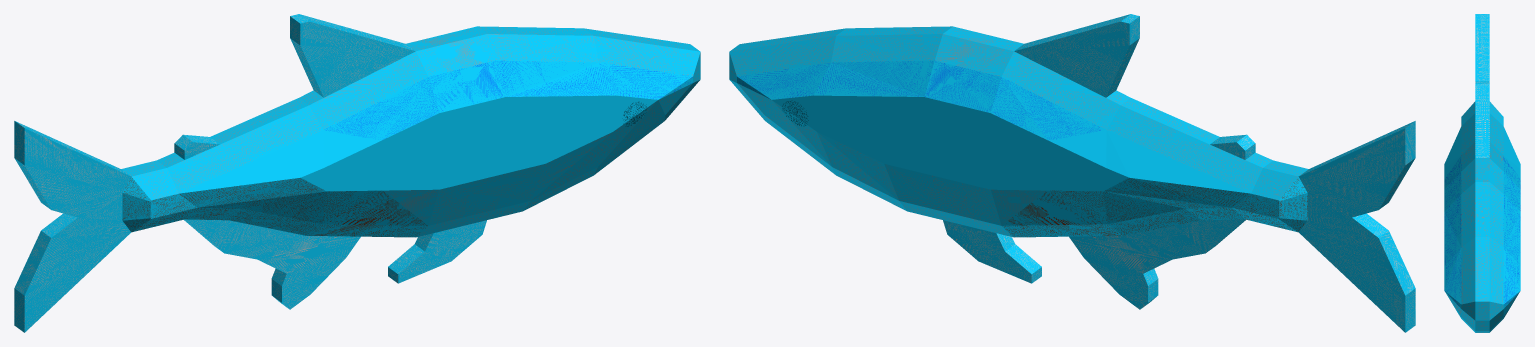
Rendered from neontetra.obj.
3 views of the same model, side by side, from view 1: azimuth 30°, elevation 25°; view 2: azimuth 150°, elevation 25°; view 3: azimuth 270°, elevation 25° (orthographic). The views are drawn at different scales.
Parts seen in each view (by area): view 1: SketchUp.006_ID44, SketchUp.007_ID52, SketchUp.004_ID30, SketchUp.005_ID36, SketchUp.008_ID58, SketchUp.003_ID24, SketchUp.001_ID12, SketchUp_ID2, SketchUp.002_ID18; view 2: SketchUp.006_ID44, SketchUp.011_ID78, SketchUp.004_ID30, SketchUp.010_ID72, SketchUp.009_ID66, SketchUp.003_ID24, SketchUp.001_ID12, SketchUp_ID2, SketchUp.002_ID18, SketchUp.018_ID124; view 3: SketchUp.006_ID44, SketchUp.009_ID66, SketchUp.008_ID58, SketchUp.001_ID12, SketchUp.004_ID30, SketchUp.011_ID78, SketchUp.007_ID52.
Boxes of the visible parts, x1,y1,x2,y2 form: SketchUp.006_ID44: (121, 26, 700, 237); SketchUp.007_ID52: (179, 95, 657, 193); SketchUp.004_ID30: (14, 121, 131, 332); SketchUp.005_ID36: (122, 177, 427, 237); SketchUp.008_ID58: (324, 60, 692, 140); SketchUp.003_ID24: (184, 219, 360, 309); SketchUp.001_ID12: (290, 14, 415, 97); SketchUp_ID2: (388, 220, 486, 283); SketchUp.002_ID18: (174, 134, 219, 159); SketchUp.006_ID44: (729, 26, 1308, 237); SketchUp.011_ID78: (772, 95, 1250, 193); SketchUp.004_ID30: (1298, 121, 1415, 332); SketchUp.010_ID72: (1002, 177, 1307, 237); SketchUp.009_ID66: (737, 60, 1105, 140); SketchUp.003_ID24: (1069, 219, 1245, 309); SketchUp.001_ID12: (1014, 14, 1139, 97); SketchUp_ID2: (943, 220, 1041, 283); SketchUp.002_ID18: (1210, 134, 1255, 159); SketchUp.018_ID124: (781, 100, 808, 126); SketchUp.006_ID44: (1445, 101, 1519, 332); SketchUp.009_ID66: (1503, 155, 1520, 308); SketchUp.008_ID58: (1444, 155, 1461, 308); SketchUp.001_ID12: (1475, 81, 1489, 157); SketchUp.004_ID30: (1475, 14, 1489, 80); SketchUp.011_ID78: (1503, 127, 1520, 178); SketchUp.007_ID52: (1444, 127, 1461, 178).
Size of the model in its own units: 9.5 by 3.81 by 1.35.
